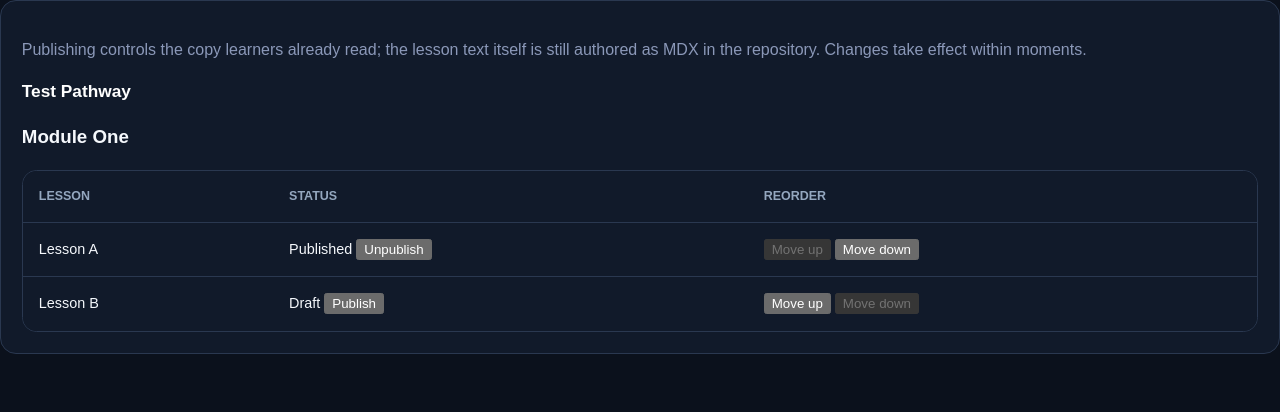
Test: CourseContentManager › toggles a published lesson to a draft
Click the button "Unpublish": (394, 249) [356,239,432,260]
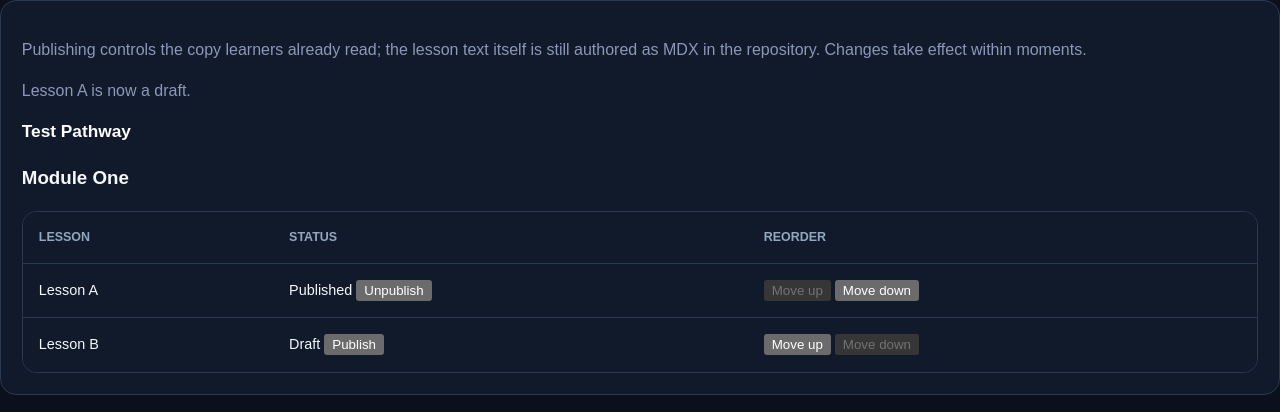
Expected: the message shows "now a draft", [22,82,191,99]
